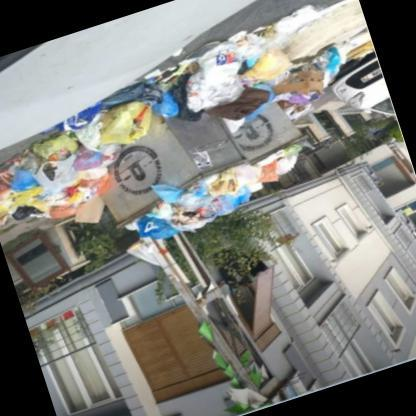Garbage: (130, 152, 309, 244), (130, 43, 257, 142), (0, 132, 97, 239), (28, 98, 140, 178), (252, 42, 343, 110)
